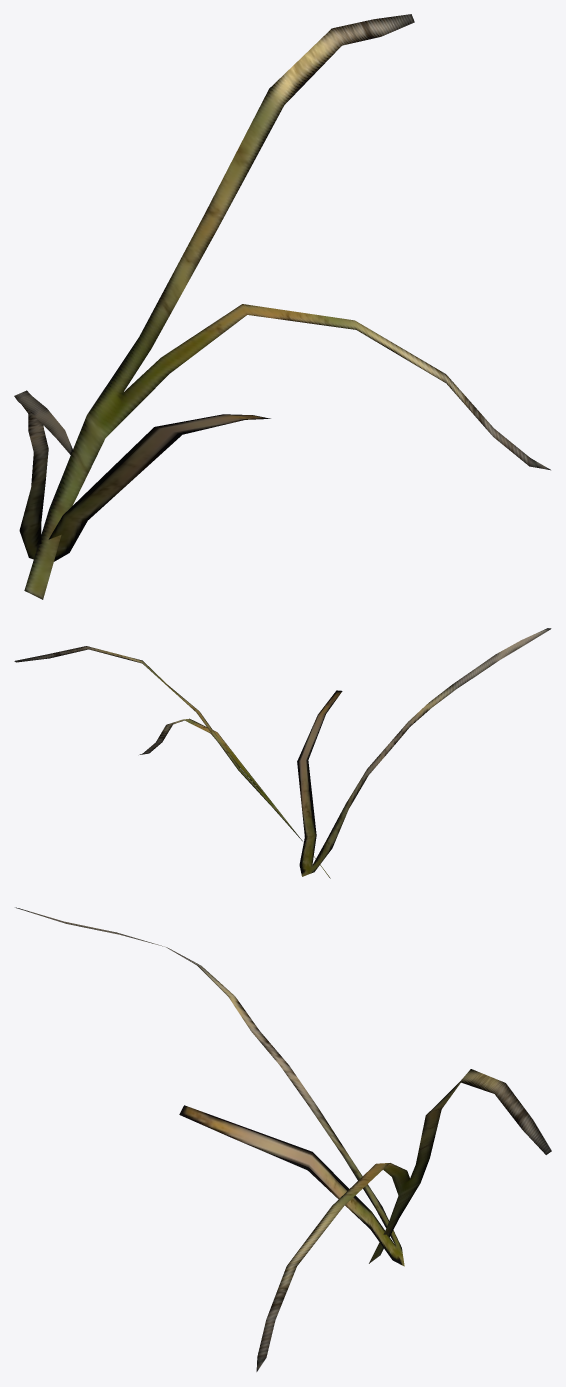
The model's file is SM_Grass_16.gltf.
The picture shows the model from 3 angles, top to bottom: view 1: azimuth 30°, elevation 25°; view 2: azimuth 150°, elevation 25°; view 3: azimuth 270°, elevation 25°; orthographic projection. The views are drawn at different scales.
Visible parts, largest first — view 1: SM_Grass_16; view 2: SM_Grass_16; view 3: SM_Grass_16.
Boxes of the visible parts, x1,y1,x2,y2 form: SM_Grass_16: (14, 14, 550, 599); SM_Grass_16: (14, 628, 551, 878); SM_Grass_16: (15, 907, 551, 1371).
Bounding box in the file's own units: 0.0853 × 0.0495 × 0.0742.
Materials: 1 (1 with a texture image).
